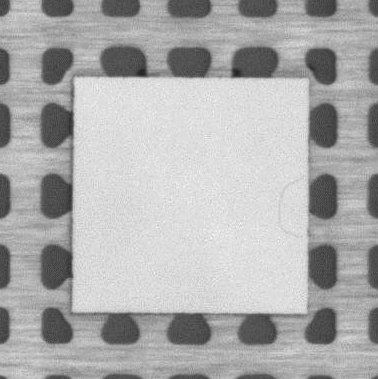DIE_CRACK: (278, 174, 307, 239)
